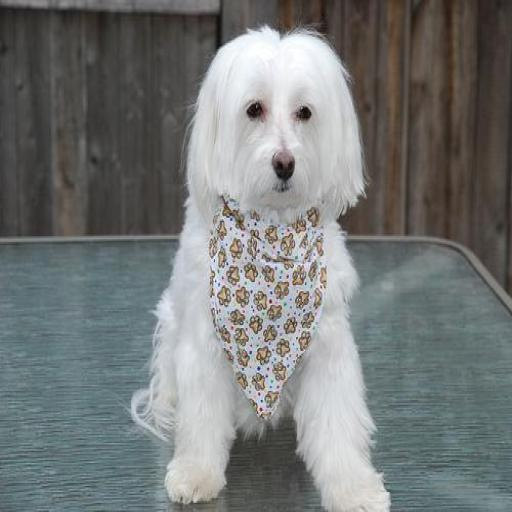dog_face: (198, 30, 369, 211)
